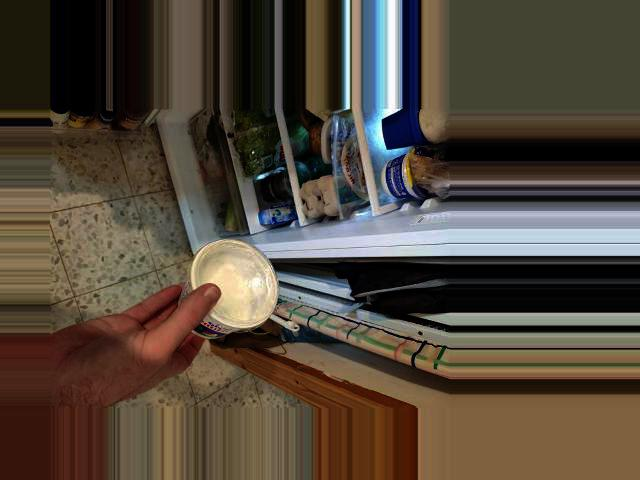cotage: (170, 237, 282, 352)
